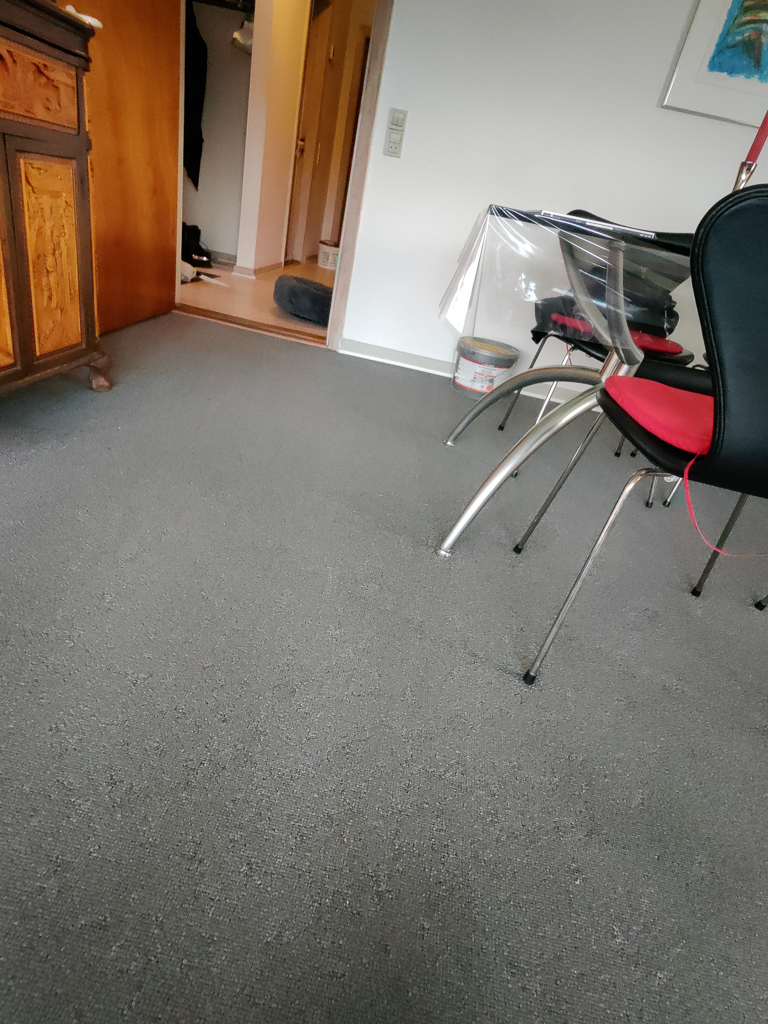Dog: (177, 248, 233, 290)
